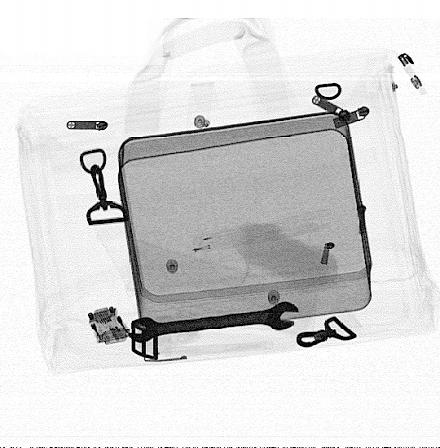Wrench: (125, 301, 301, 345)
